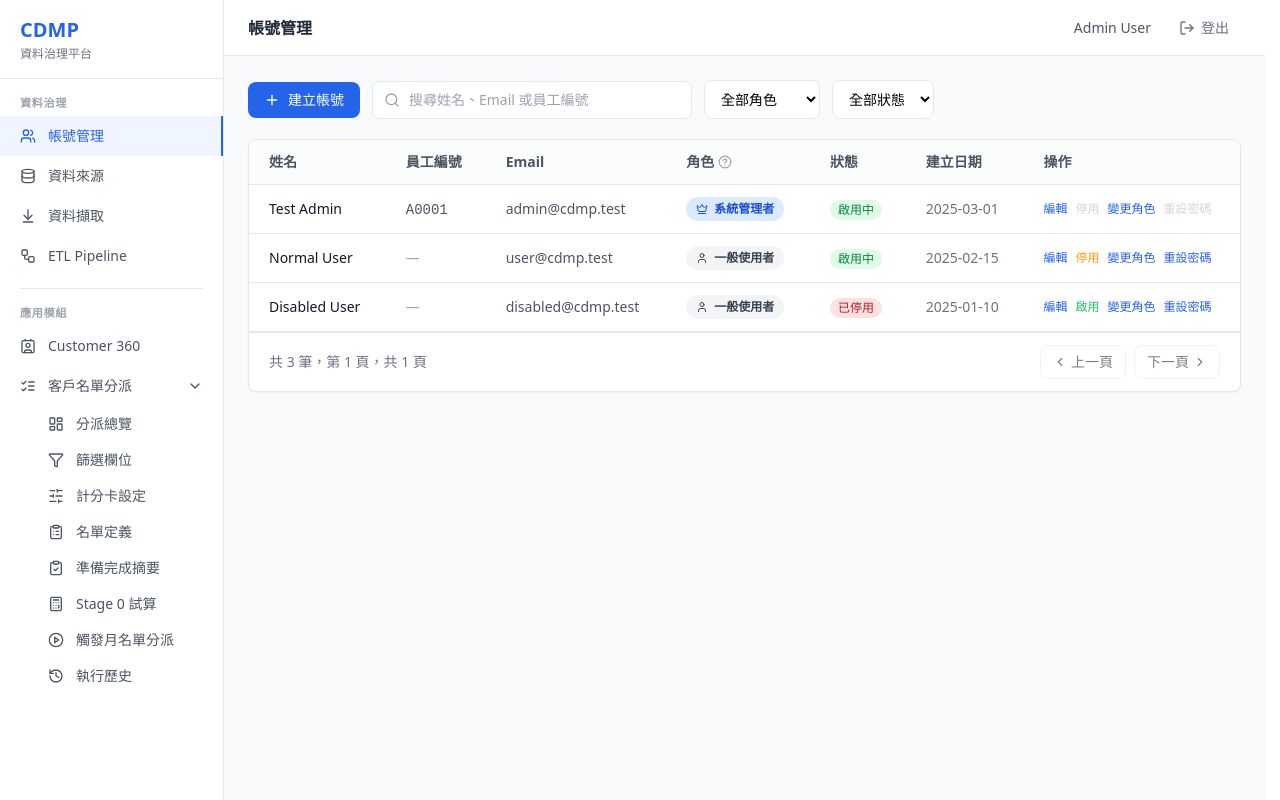
Scenario: AccountListPage › 停用／啟用帳號整合 › 點擊停用按鈕彈出確認對話框
The image size is (1280, 800).
# Find the enabled one (not the self-disable)
Click the button "停用" in the row of "Normal User": (1087, 258) [1075,250,1099,266]
Wait 100 ms
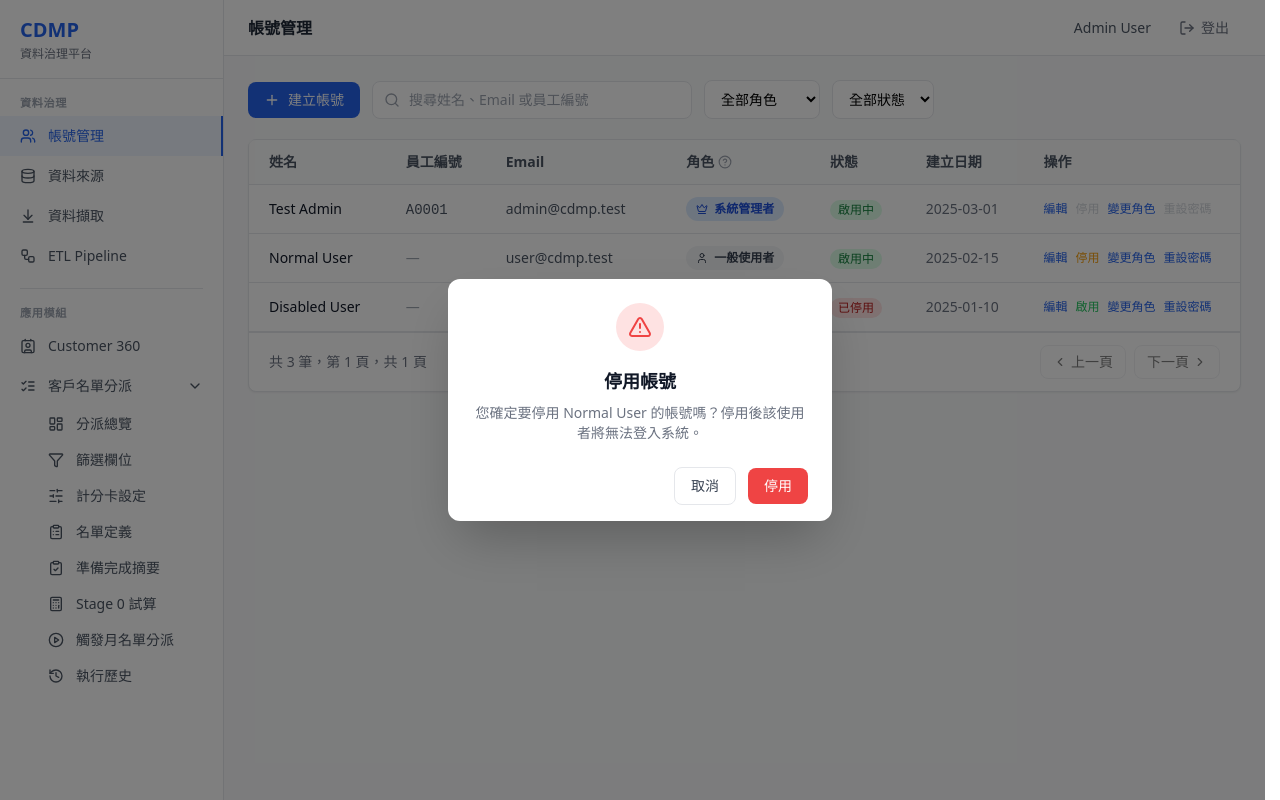
Result: the heading "停用帳號" is shown at [604,369,676,393]
Result: the text "您確定要停用 Normal User 的帳號嗎？停用後該使用者將無法登入系統。" is shown at [472,403,808,443]
